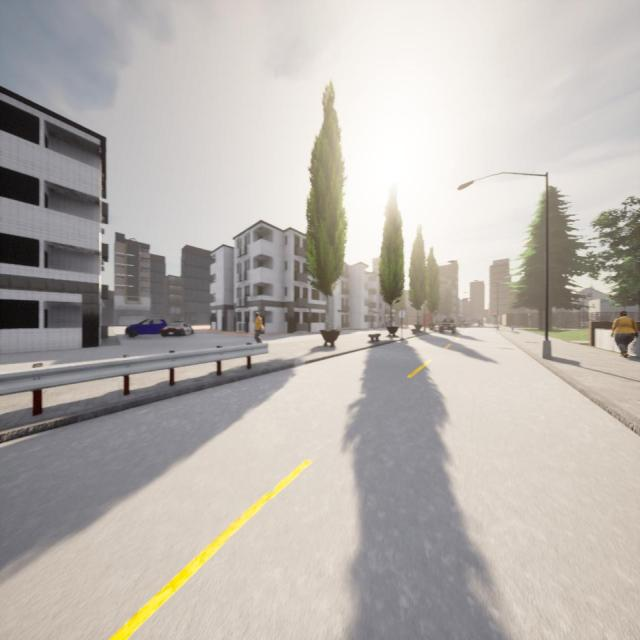Pedestrian: (612, 311, 638, 357), (254, 311, 264, 343)
Traffic_Signs: (399, 310, 405, 318)
Vehicle: (125, 319, 167, 337), (160, 321, 194, 336), (438, 315, 456, 334)
